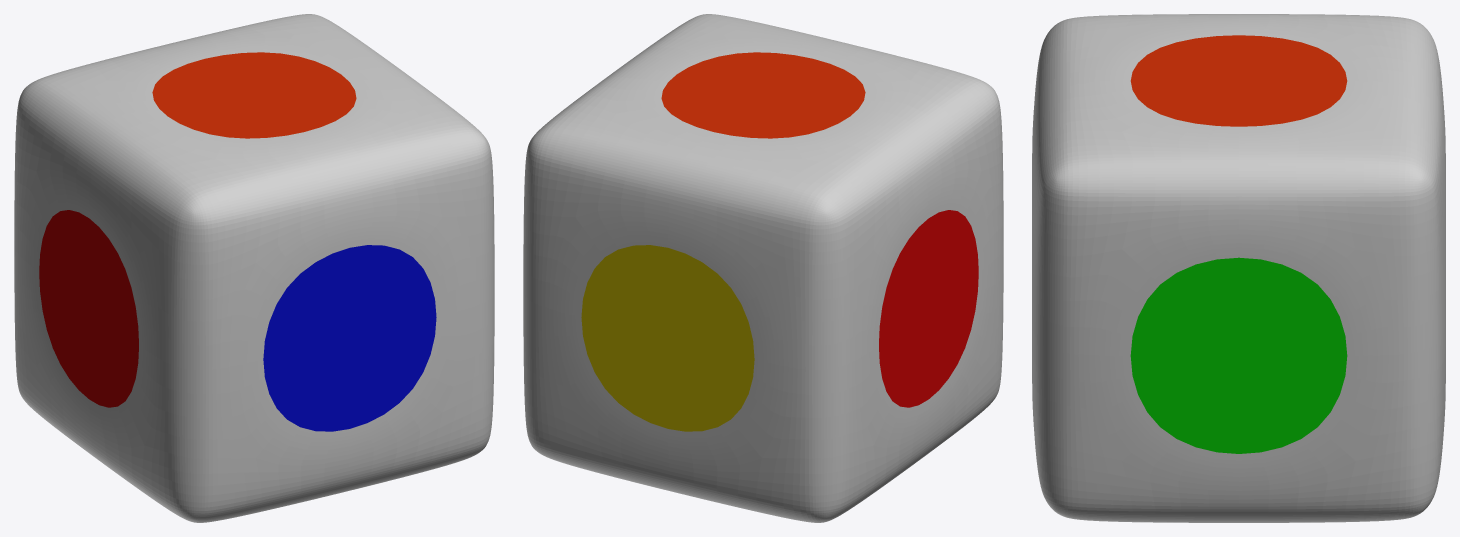
Rendered from ColourDice.obj.
3 renders of one model, left to right at view 1: azimuth 30°, elevation 25°; view 2: azimuth 150°, elevation 25°; view 3: azimuth 270°, elevation 25°, orthographic. The views are drawn at different scales.
Parts seen in each view (by area): view 1: Cube; view 2: Cube; view 3: Cube.
Part boxes in pixels (x1=…): Cube: x1=14, y1=14, x2=494, y2=522; Cube: x1=523, y1=14, x2=1003, y2=522; Cube: x1=1032, y1=14, x2=1445, y2=522.
Bounding box in the file's own units: 2 × 2 × 2.
